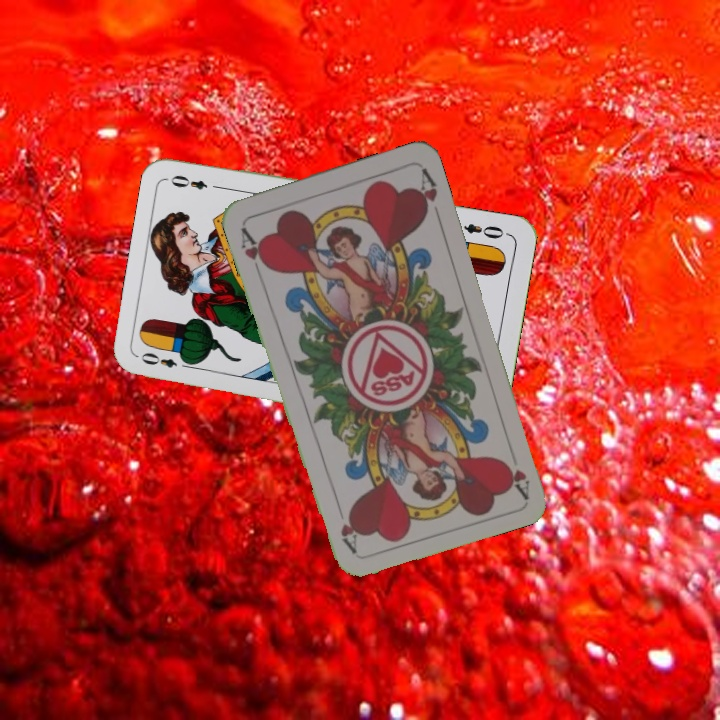EO: (137, 348, 195, 372), (459, 219, 506, 241)
HA: (236, 223, 272, 279), (499, 441, 533, 499)
